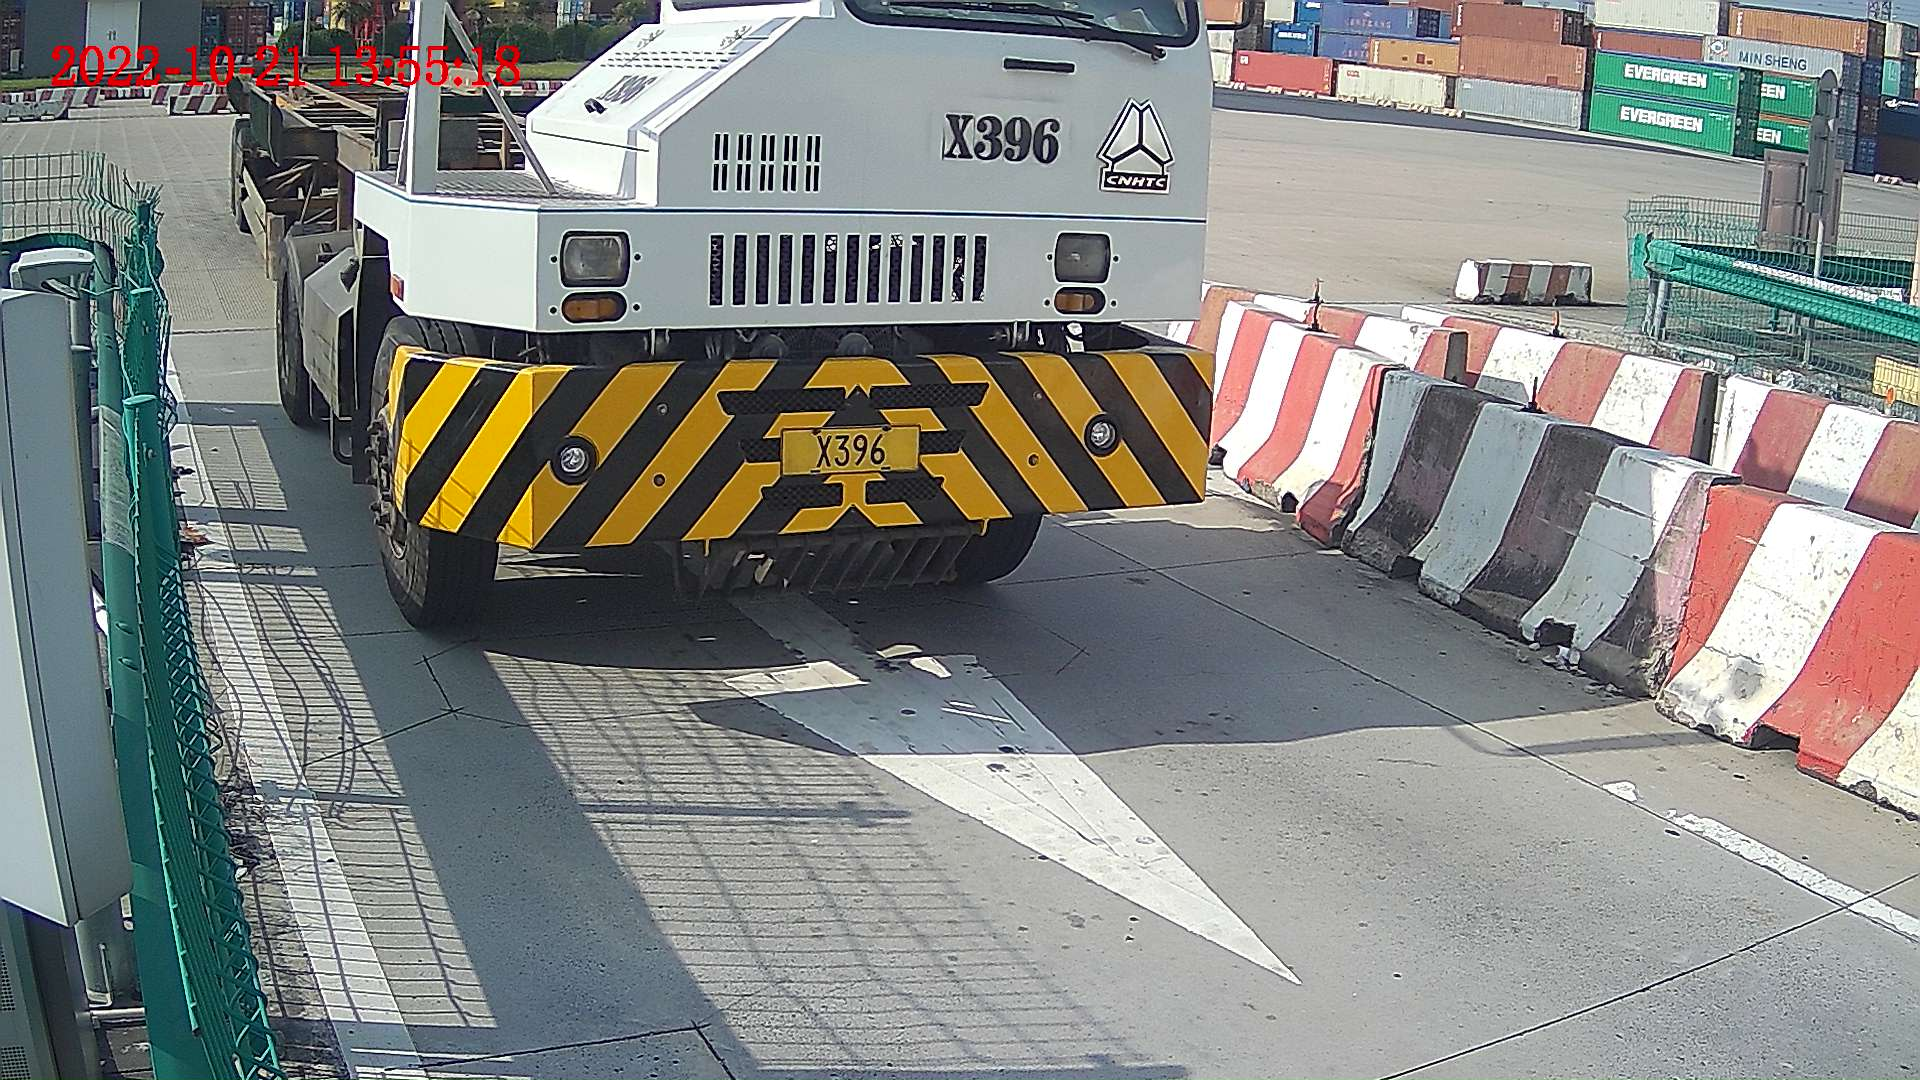head: (333, 1, 1220, 617)
plate: (776, 431, 918, 473)
